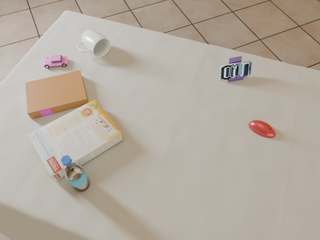book: (25, 70, 88, 119)
bottle: (61, 155, 90, 192)
box: (28, 100, 123, 181)
cup: (78, 30, 110, 57)
mouse: (249, 120, 276, 138)
phone: (220, 61, 252, 80)
toy_car: (43, 55, 68, 68)
